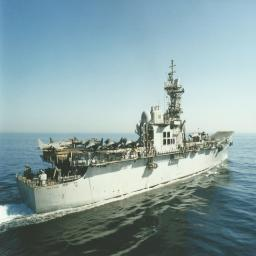Portanaves: (15, 53, 238, 222)
